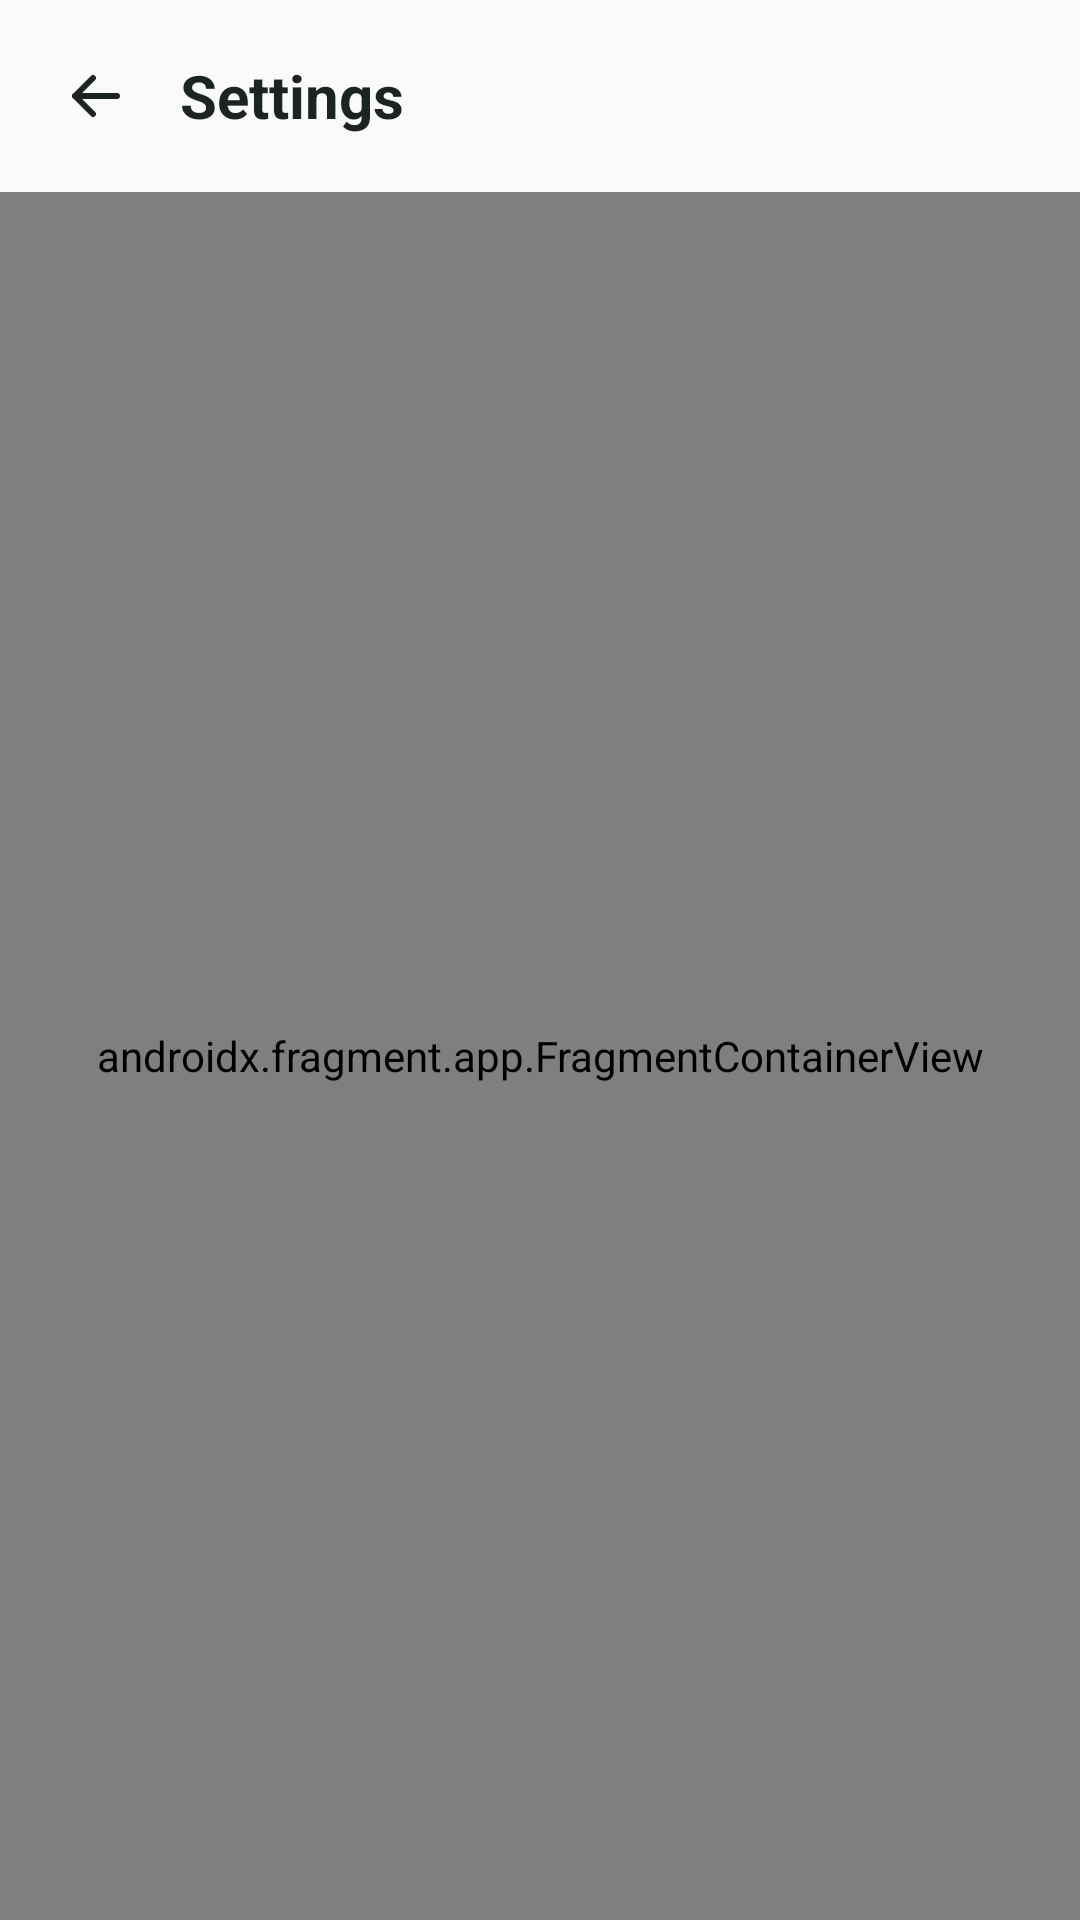

Locate icon controls on the screen. Image size 1080px×1920px, boxes as (x1, y1, x2, y2).
Back: (72, 75, 120, 117)
